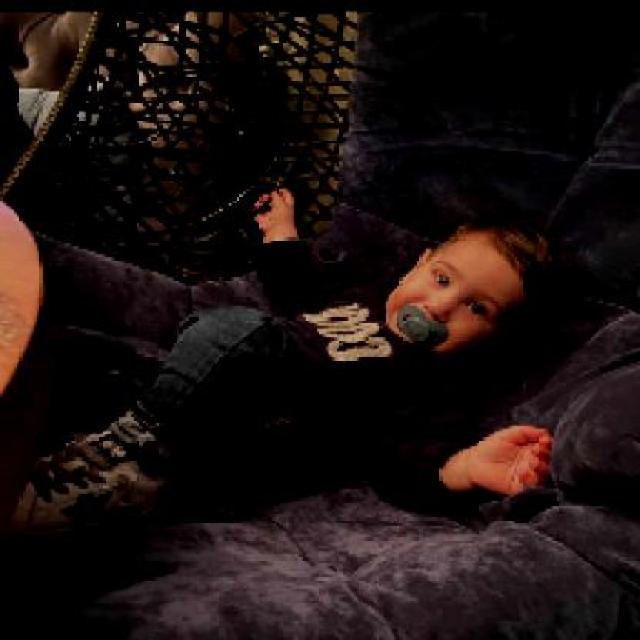child: (5, 184, 578, 542)
